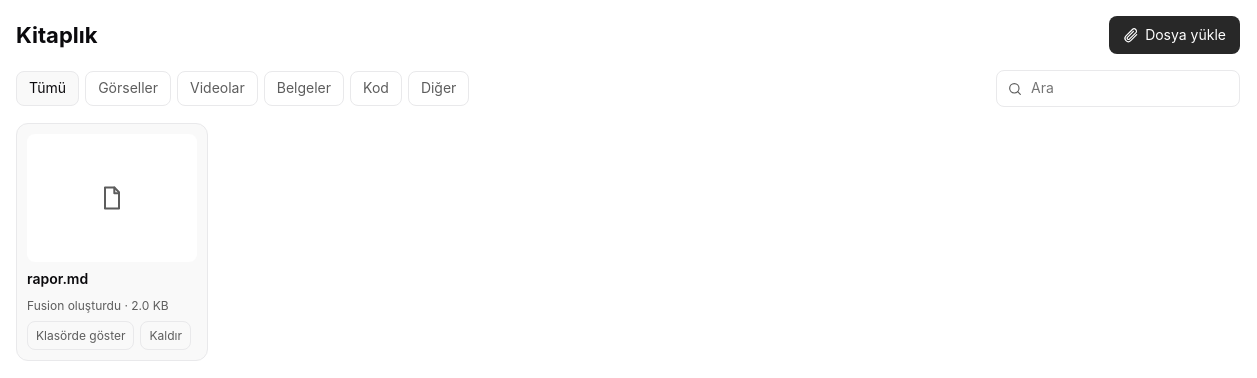
Test case: LibraryScreen › yavaş eski liste yanıtı yeni süzgecin sonucunu ezmez (U6-02)
Expected: the text "rapor.md" is shown, [27,270,88,286]
Click the tab "Belgeler" at (304, 89), box [264,71,344,106]
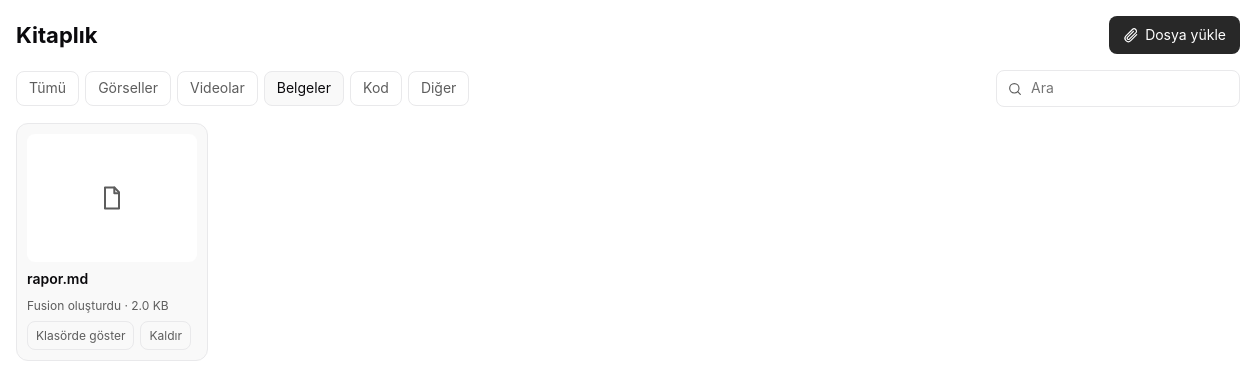
Click the tab "Videolar" at (217, 89), box [177,71,258,106]
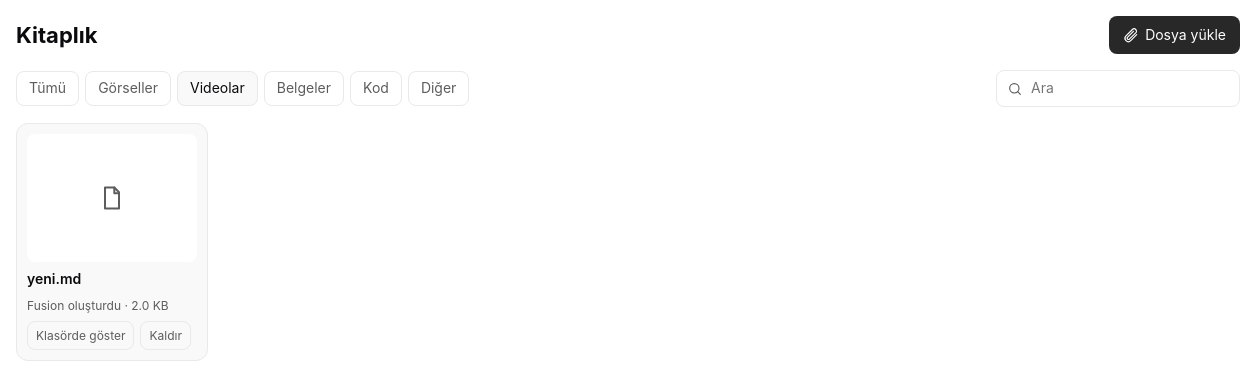
Result: the text "yeni.md" is shown at [27,270,81,286]
